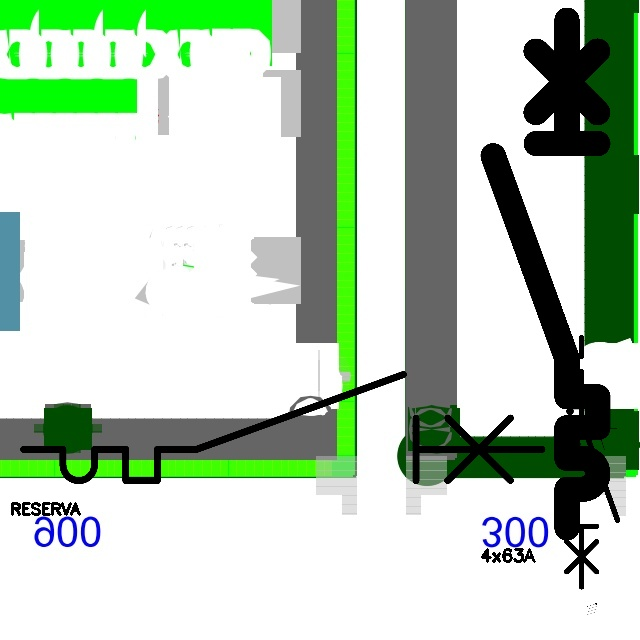interruptor_termomagnetico: (10, 361, 555, 494), (480, 7, 611, 541), (560, 331, 624, 593)
